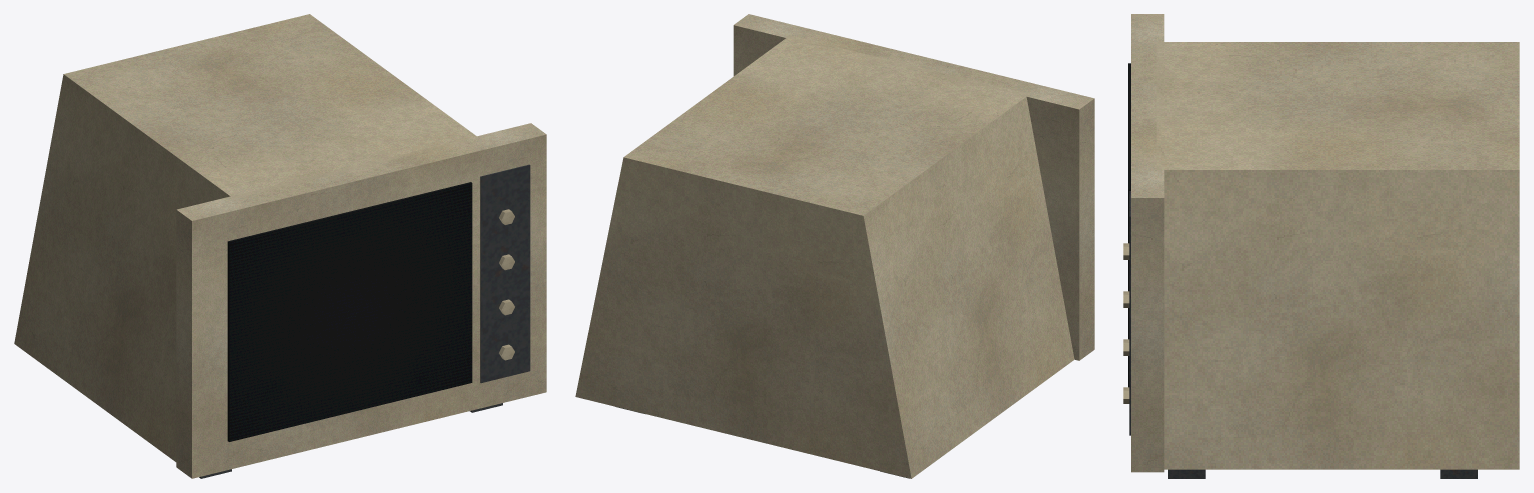
The model's file is tv_crt.glb.
3 views of the same model, side by side, from view 1: azimuth 30°, elevation 25°; view 2: azimuth 150°, elevation 25°; view 3: azimuth 270°, elevation 25° (orthographic). The views are drawn at different scales.
Visible parts, largest first — view 1: tv_crt; view 2: tv_crt; view 3: tv_crt.
Part boxes in pixels (x1,y1,x2,y2): tv_crt: [14, 14, 546, 478]; tv_crt: [575, 14, 1094, 478]; tv_crt: [1123, 14, 1519, 478].
Size of the model in its own units: 0.576 by 0.43 by 0.524.
3 materials, 3 textured.
